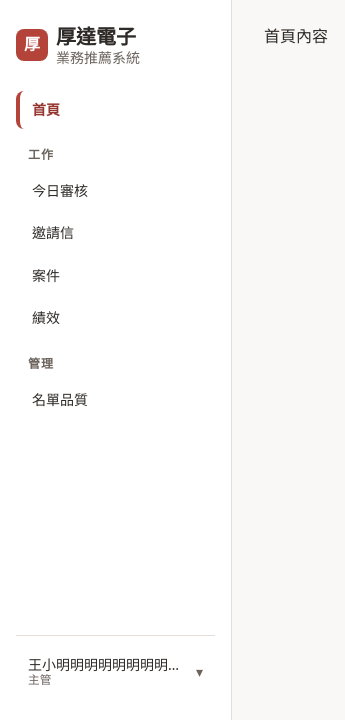
Scenario: AppLayout 帳號選單 › 選「登出」會呼叫登出並收起選單
Press Enter in the button "王小明明明明明明明明明明明明明明 主管", box [16,648,215,696]
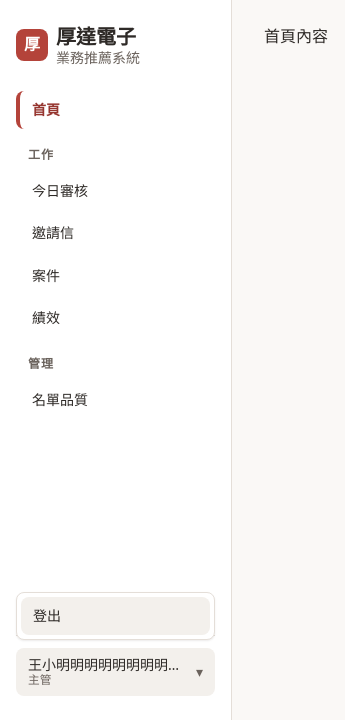
Click the menu item "登出" at (116, 616), box [21,597,210,635]
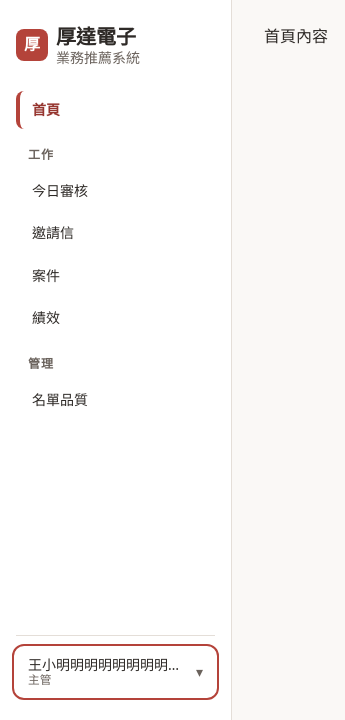
Expected: the menu is gone
